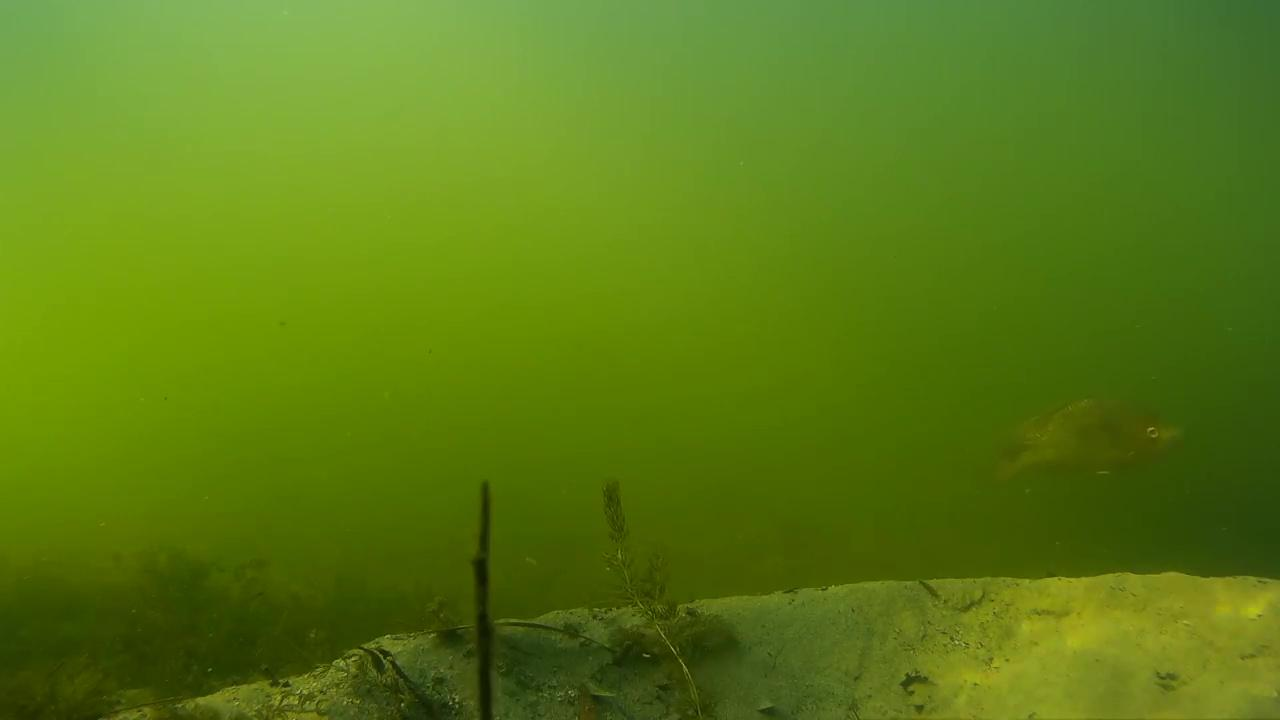Tilapia: (993, 384, 1184, 496)
